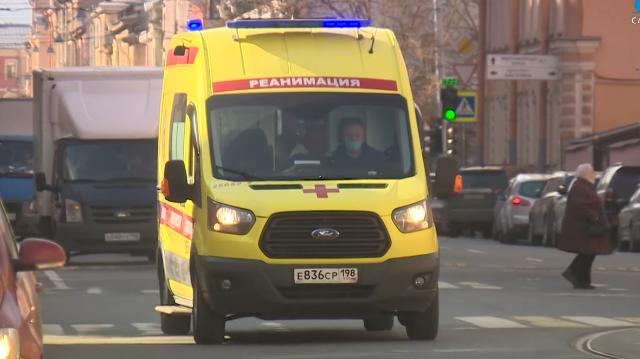intensive care unit: (157, 20, 443, 348)
non emergency car: (32, 69, 157, 267), (448, 161, 508, 239), (597, 165, 639, 254), (530, 171, 576, 247), (509, 172, 545, 244)
